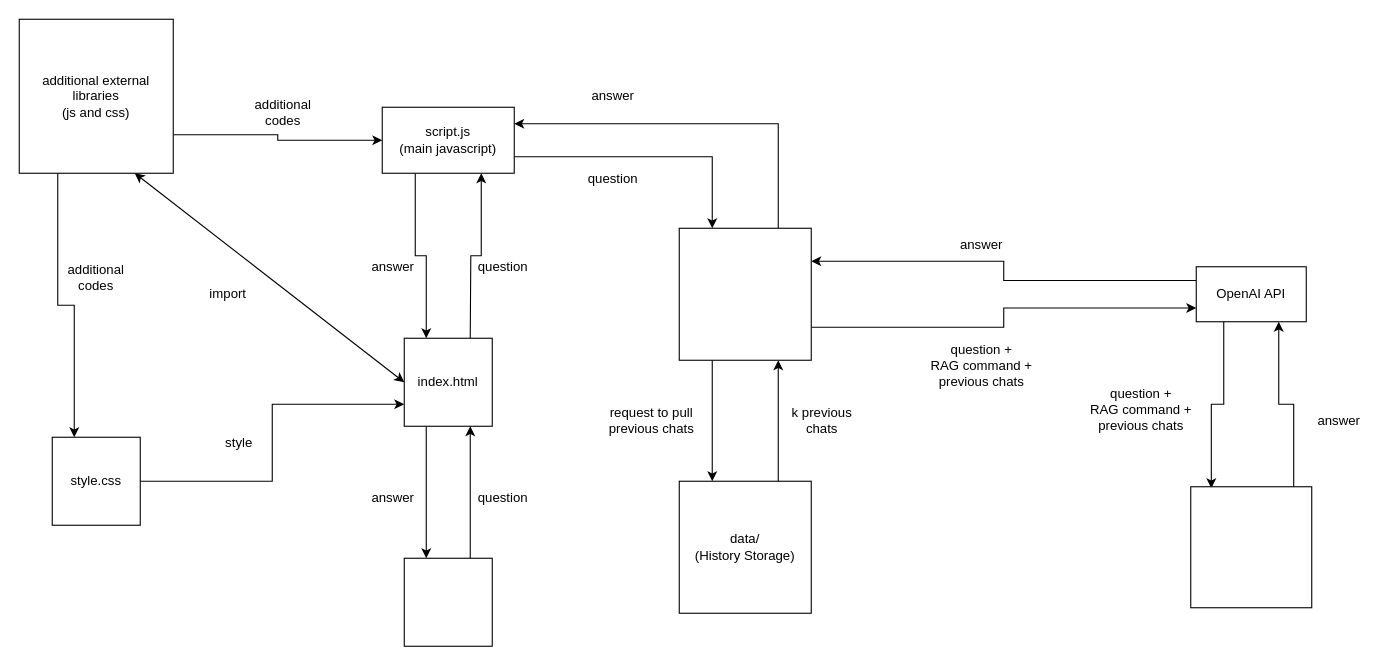
This 1392x666 diagram has some shape labels left out. The box of each missing label's shape, as (x1, y1, x2, y2) in pixels:
flask_app.py (main backend): (678, 227, 811, 360)
OpenAI Server: (1190, 486, 1312, 608)
User: (403, 557, 492, 646)
